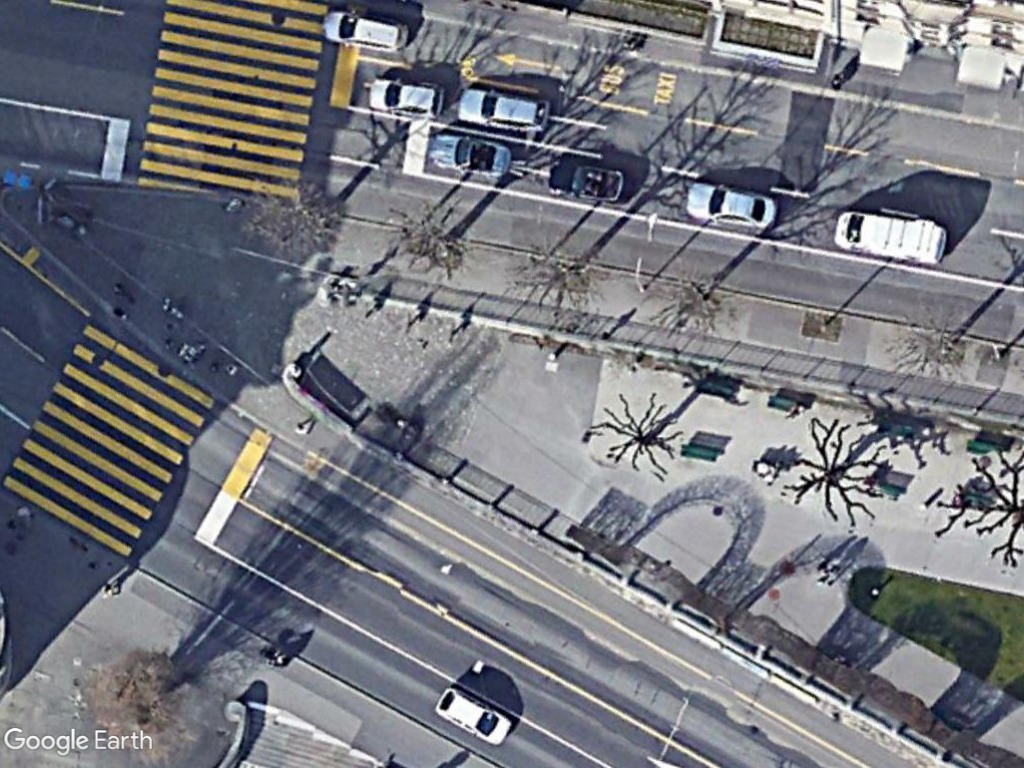car: (432, 682, 517, 749), (451, 84, 555, 134), (685, 179, 779, 231), (426, 132, 516, 181), (322, 8, 410, 55), (367, 73, 447, 119)
van: (832, 207, 952, 266)
